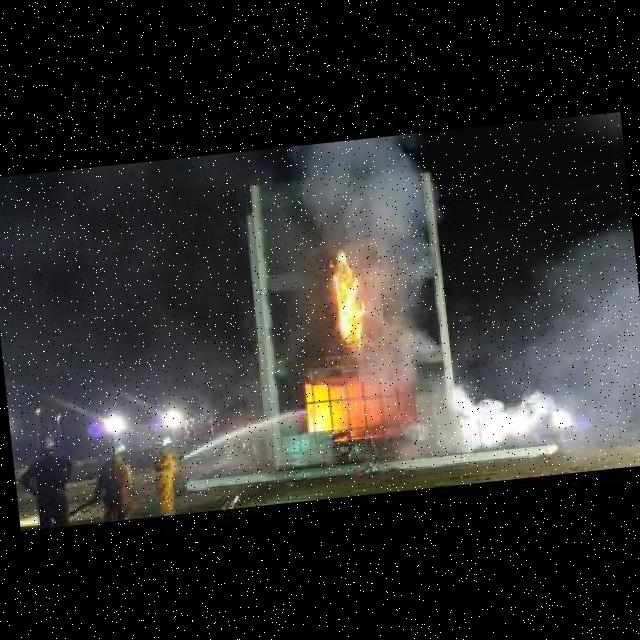fire: (313, 242, 387, 357)
